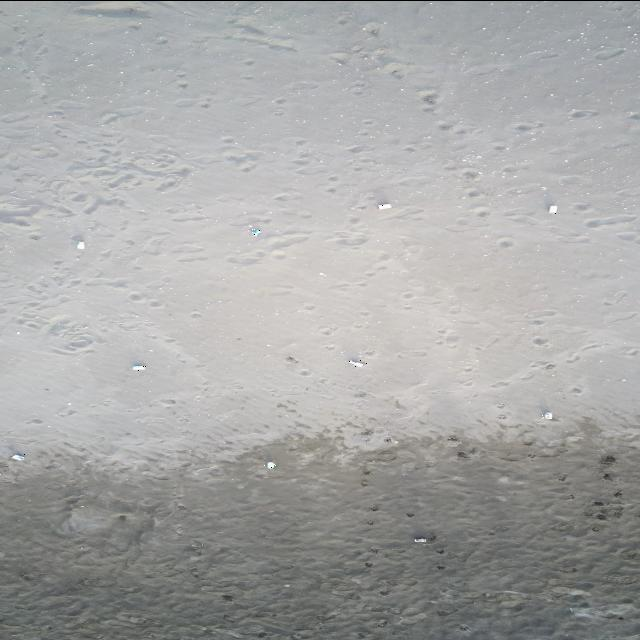Garbage: (413, 532, 435, 543), (347, 359, 366, 367), (264, 460, 276, 468), (12, 452, 24, 460), (249, 227, 260, 235), (131, 363, 145, 369), (413, 536, 426, 542), (543, 411, 552, 419), (76, 240, 83, 249), (548, 204, 555, 212), (377, 203, 391, 207)
